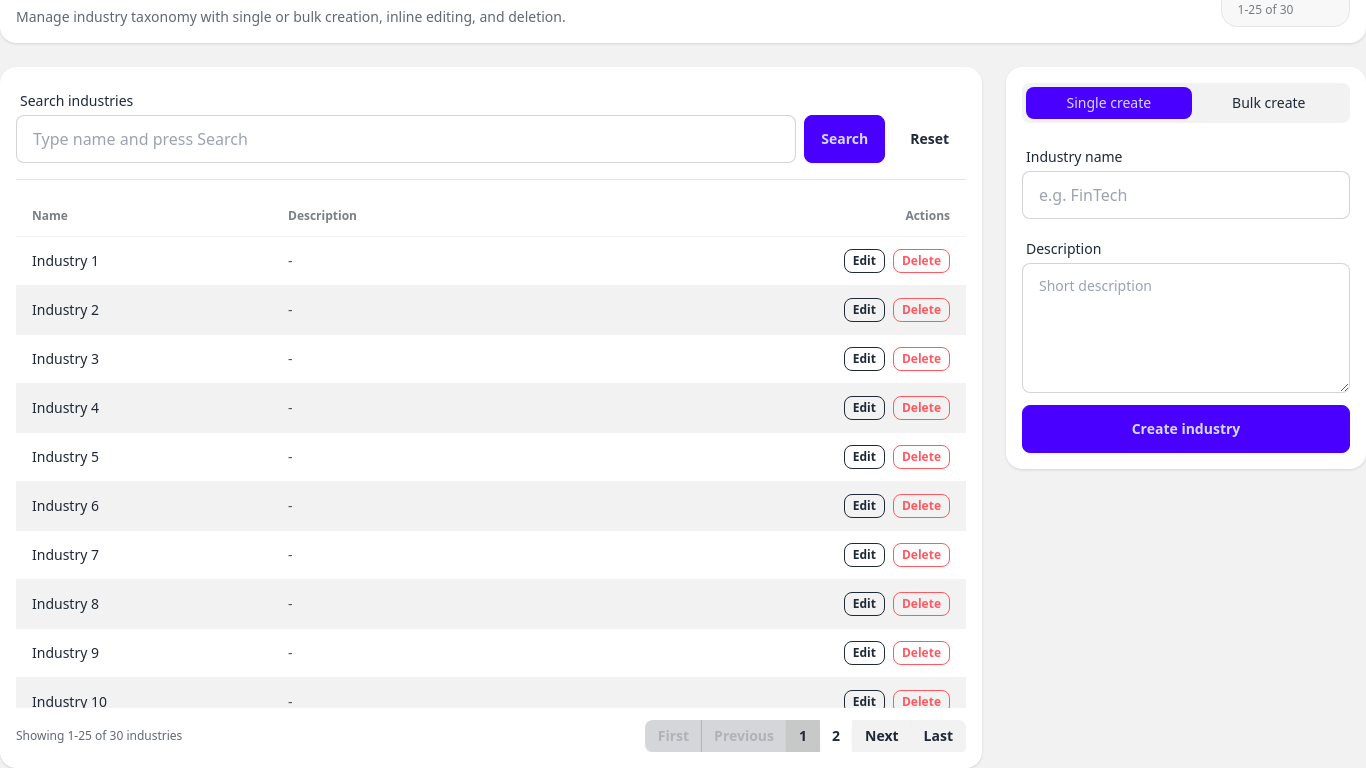
Test: IndustriesPage › paginates industries and reports total result count
(page scrolled)
expect the text "Industry 1" is shown: met, box [32, 251, 99, 270]
expect the text "1-25 of 30" is shown: met, box [1238, 1, 1293, 18]
Click the button with aria-label "Go to next page": coordinates (882, 736) [852, 720, 912, 752]
(page scrolled)
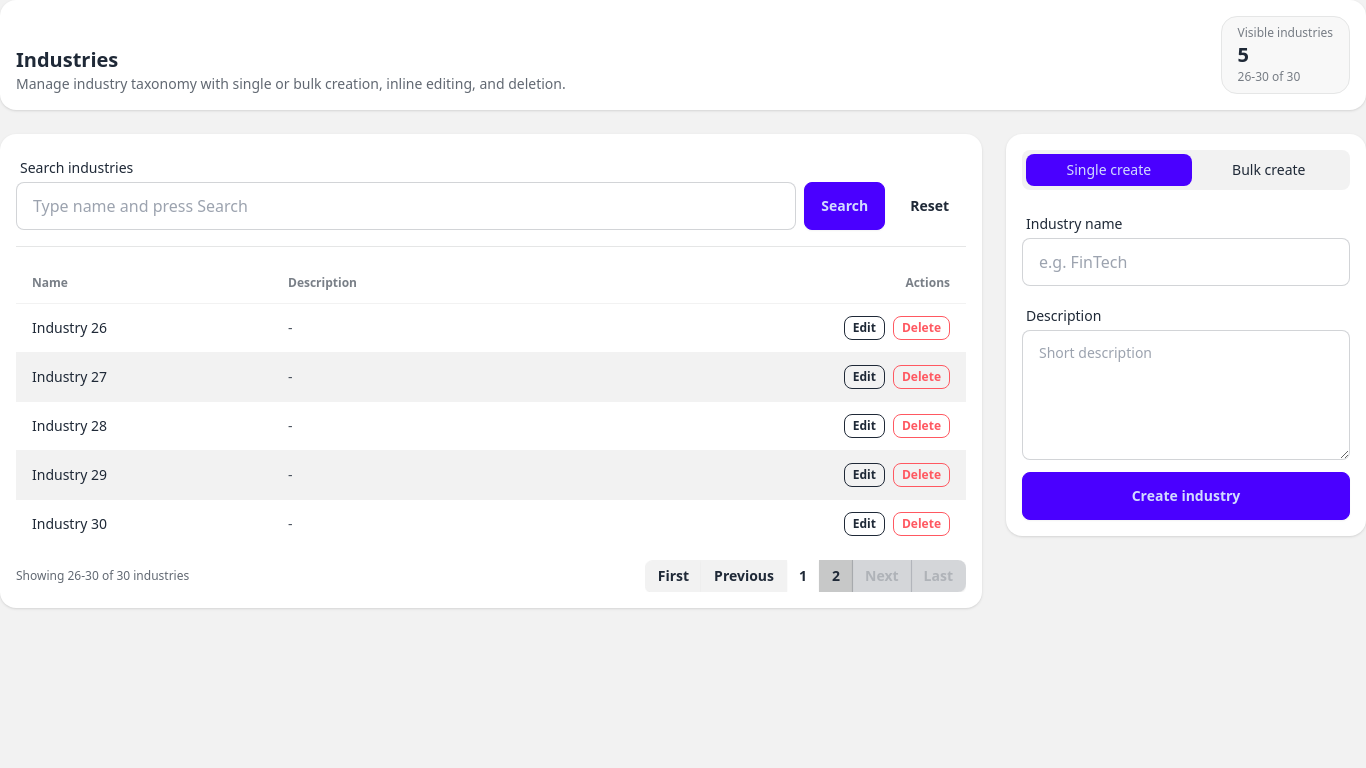
expect the text "Industry 26" is shown: met, box [32, 318, 107, 337]
expect the text "26-30 of 30" is shown: met, box [1238, 68, 1300, 85]
